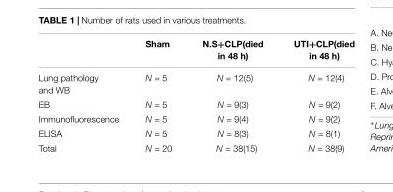table: (37, 37, 353, 152)
table column: (37, 37, 131, 152), (186, 37, 277, 152), (277, 37, 353, 152), (131, 37, 186, 152)
table column header: (37, 37, 353, 65)
table row: (37, 65, 353, 96), (37, 37, 353, 65), (37, 110, 353, 125), (37, 96, 353, 110), (37, 125, 353, 139), (37, 139, 353, 152)
